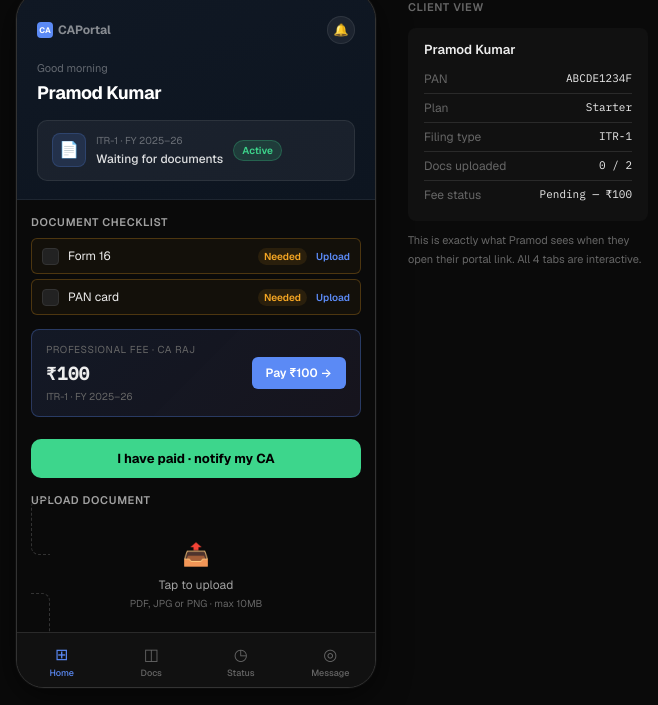
Test case: ClientPortal client-specific details › shows live CA fee details, actual filing status, and upload controls per document
The width and height of the screenshot is (658, 705).
(page scrolled)
Expected: the text "Professional fee · CA Raj" is shown, 46,342 -> 195,357
Expected: the text "Waiting for documents" is shown, 96,150 -> 223,168
Click the button "◫ Docs" at point(151, 662), box 106,636 -> 196,686
(page scrolled)
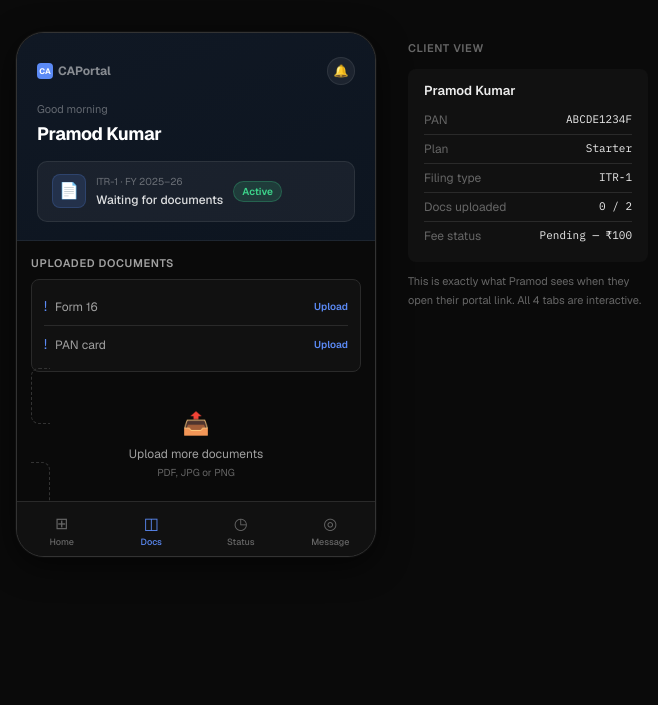
Expected: the file field named "Upload Form 16" is shown, 314,299 -> 348,314
Expected: the text "Uploaded documents" is shown, 31,256 -> 174,270
